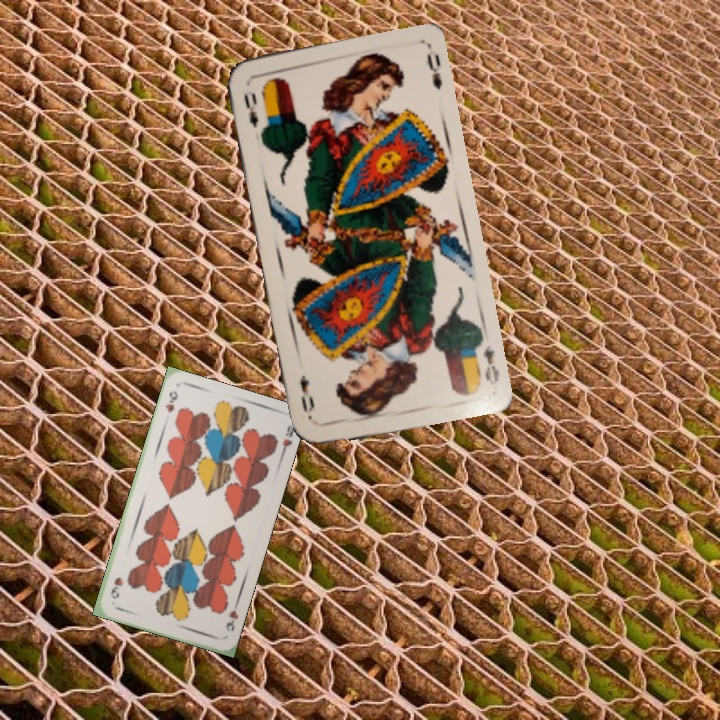EO: (479, 341, 502, 388), (239, 88, 261, 130)
H9: (222, 599, 241, 634), (161, 387, 181, 415)
